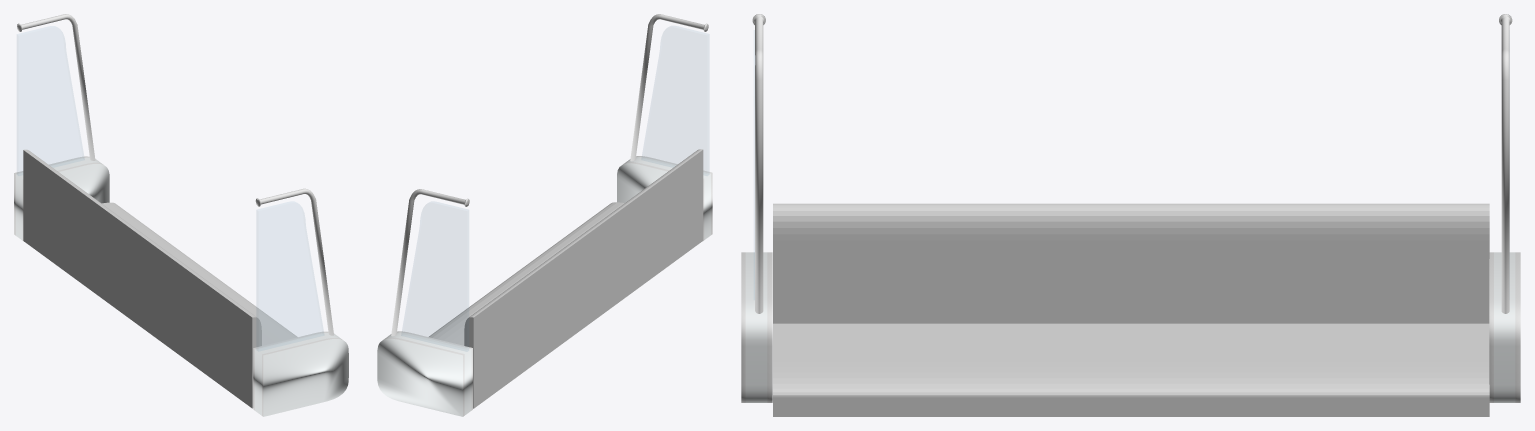
File: ChairLRT.fbx
3 views of the same model, side by side, from view 1: azimuth 30°, elevation 25°; view 2: azimuth 150°, elevation 25°; view 3: azimuth 270°, elevation 25° (orthographic). The views are drawn at different scales.
Parts seen in each view (by area): view 1: Cube.017; view 2: Cube.017; view 3: Cube.017.
Boxes of the visible parts, bbox=[...] form: Cube.017: bbox=[14, 14, 348, 416]; Cube.017: bbox=[377, 14, 712, 416]; Cube.017: bbox=[741, 14, 1520, 416].
Size of the model in its own units: 200 by 439 by 927.
8 materials, 2 textured.
